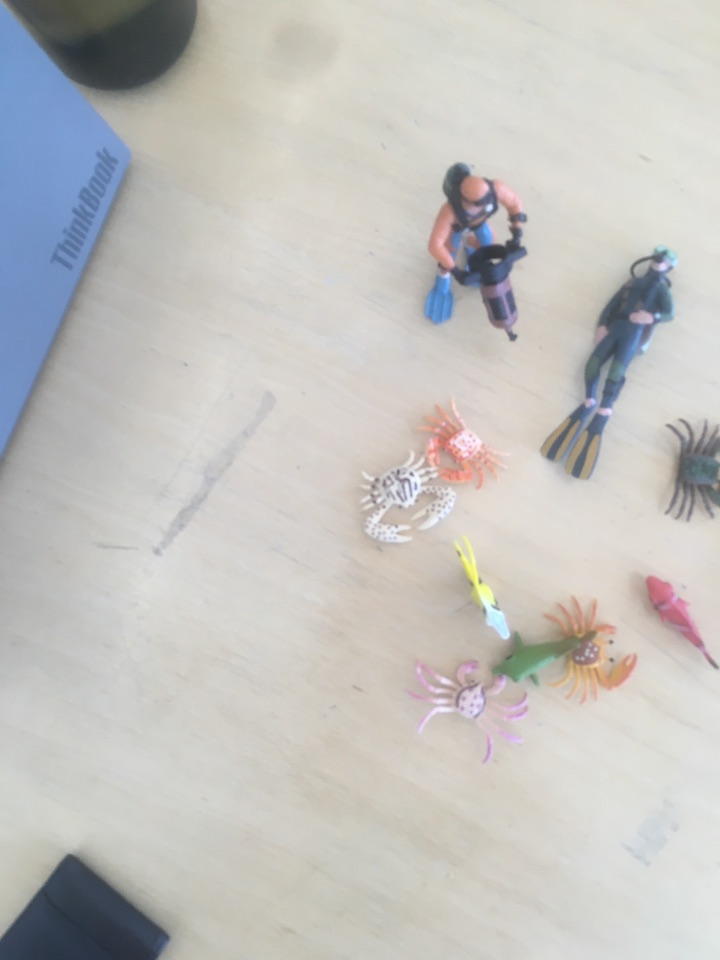crab: (410, 652, 533, 765), (543, 590, 642, 714), (352, 444, 458, 549), (415, 393, 511, 495), (660, 411, 720, 524)
danger: (443, 531, 521, 649)
diver: (535, 242, 681, 487), (422, 161, 535, 344)
fish: (637, 567, 720, 680), (485, 624, 603, 687)
